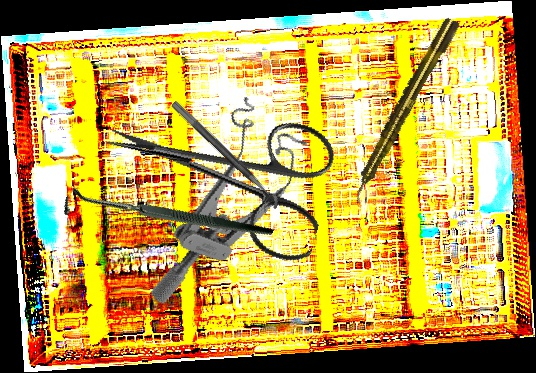Fixation Ring: (162, 99, 283, 218)
Handpiece: (345, 15, 462, 205)
Hook Surgical: (56, 115, 276, 324)
Iris Scissors: (89, 74, 345, 267)
Speculum: (148, 87, 316, 333)
